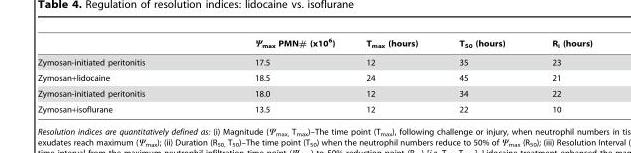table: (37, 37, 591, 114)
table column: (37, 37, 199, 114), (199, 37, 349, 114), (437, 37, 528, 114), (349, 37, 437, 114), (528, 37, 591, 114)
table column header: (37, 37, 591, 53)
table row: (37, 68, 591, 85), (37, 37, 591, 53), (37, 53, 591, 68), (37, 85, 591, 100), (37, 100, 591, 114)
